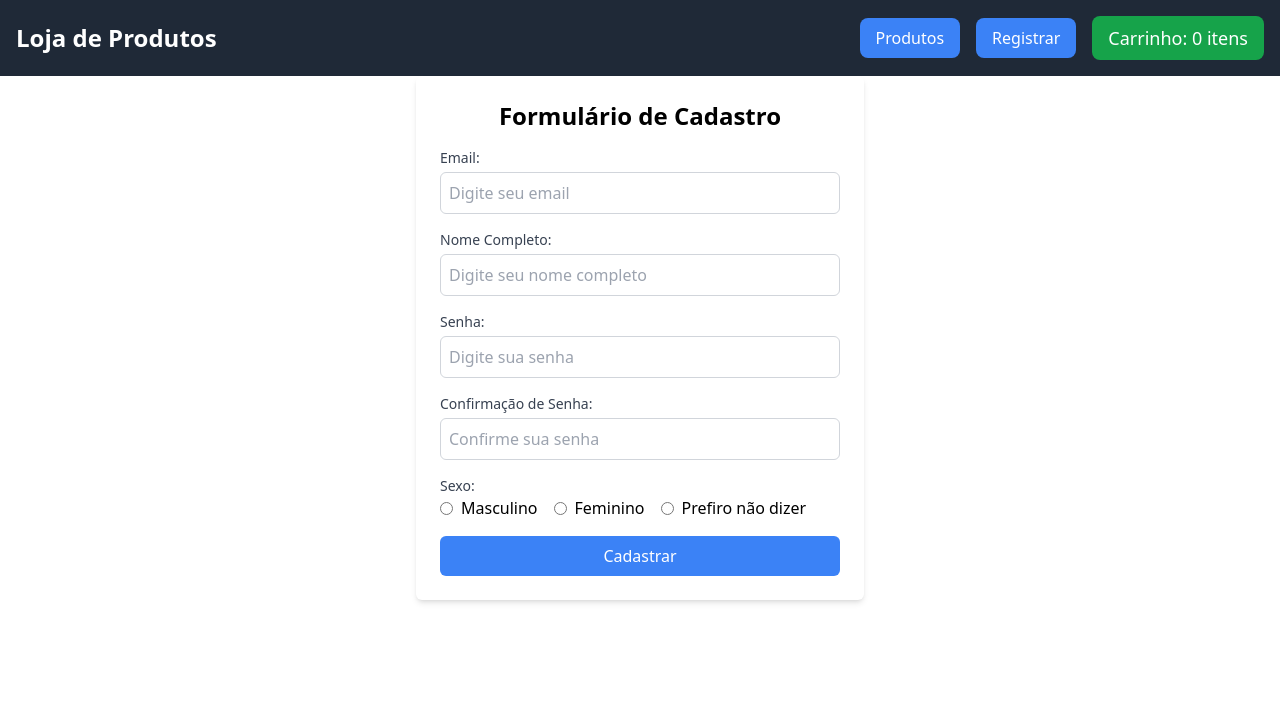
Scenario: Cadastro Formulário › Deve mostrar erro se as senhas não coincidirem
The image size is (1280, 720).
// Preenche os campos com senhas diferentes
Type "teste@dominio.com" into the field named "email".
click(640, 193); type("teste@dominio.com")  # box [440,172,840,214]
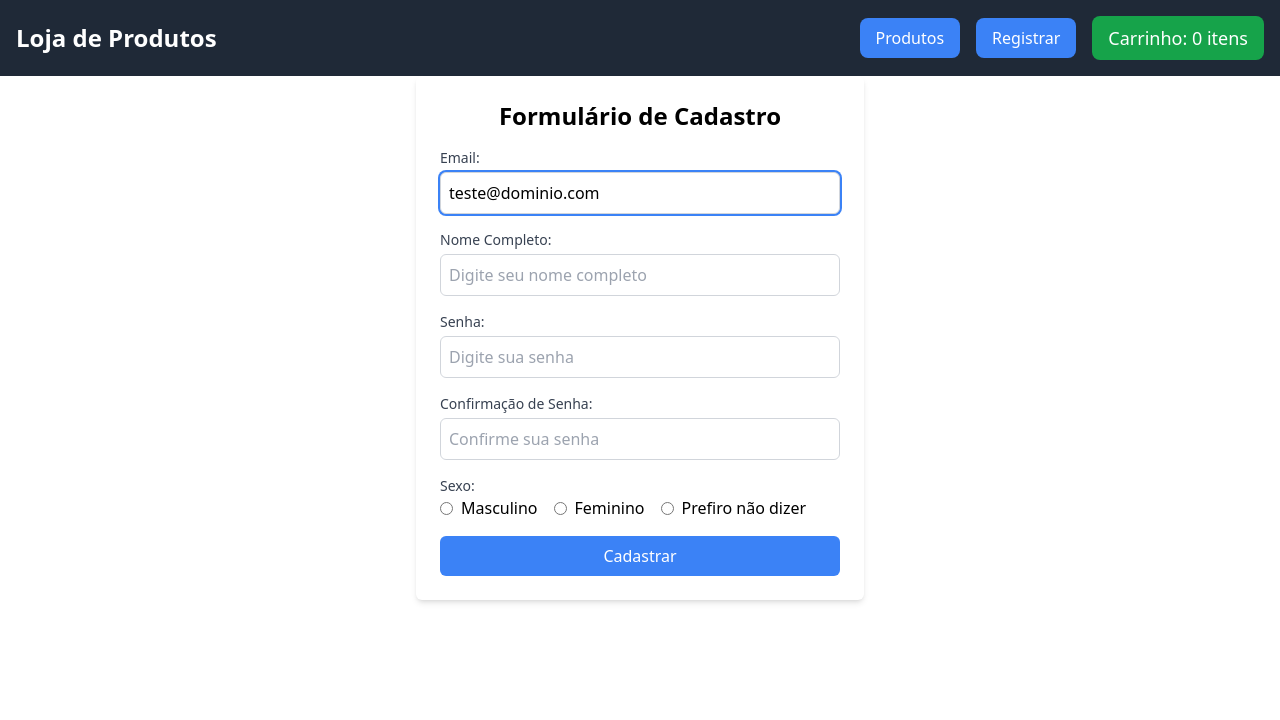
Type "João da Silva" into the field named "nome".
click(640, 275); type("João da Silva")  # box [440,254,840,296]
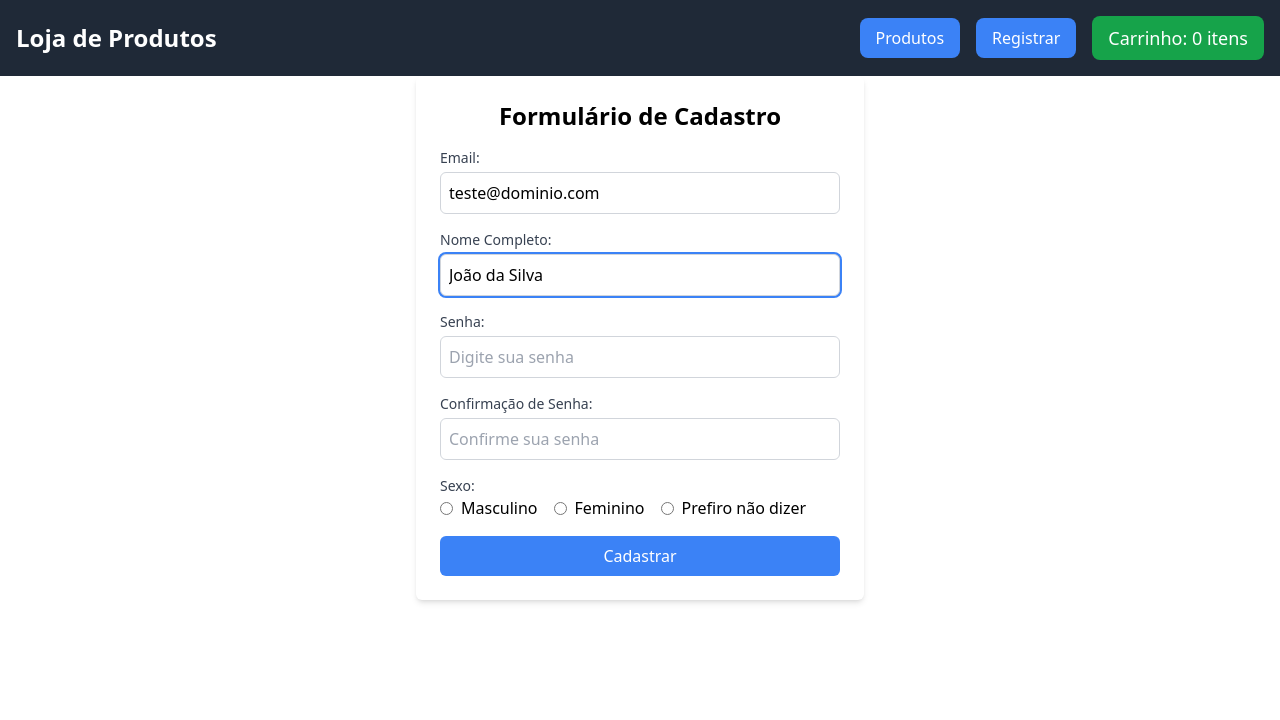
Type "123456" into the password field named "senha".
click(640, 357); type("123456")  # box [440,336,840,378]
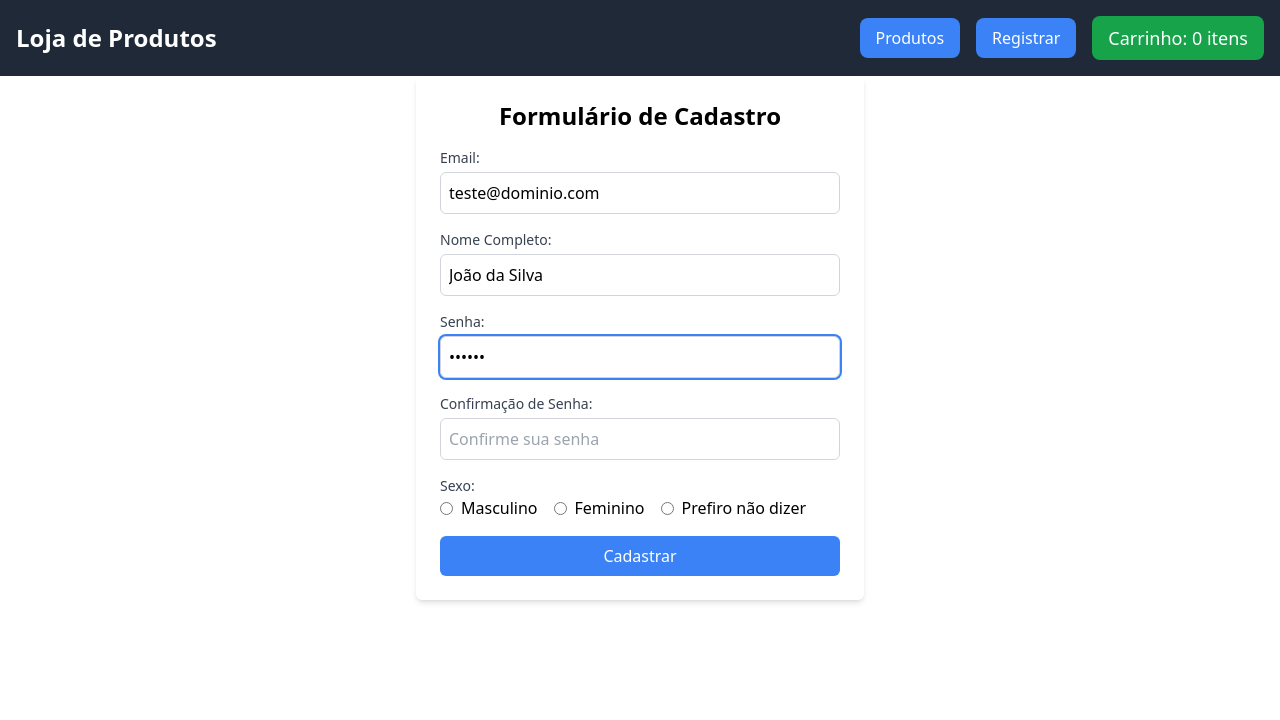
Type "654321" into the password field named "confirmacaoSenha".
click(640, 439); type("654321")  # box [440,418,840,460]
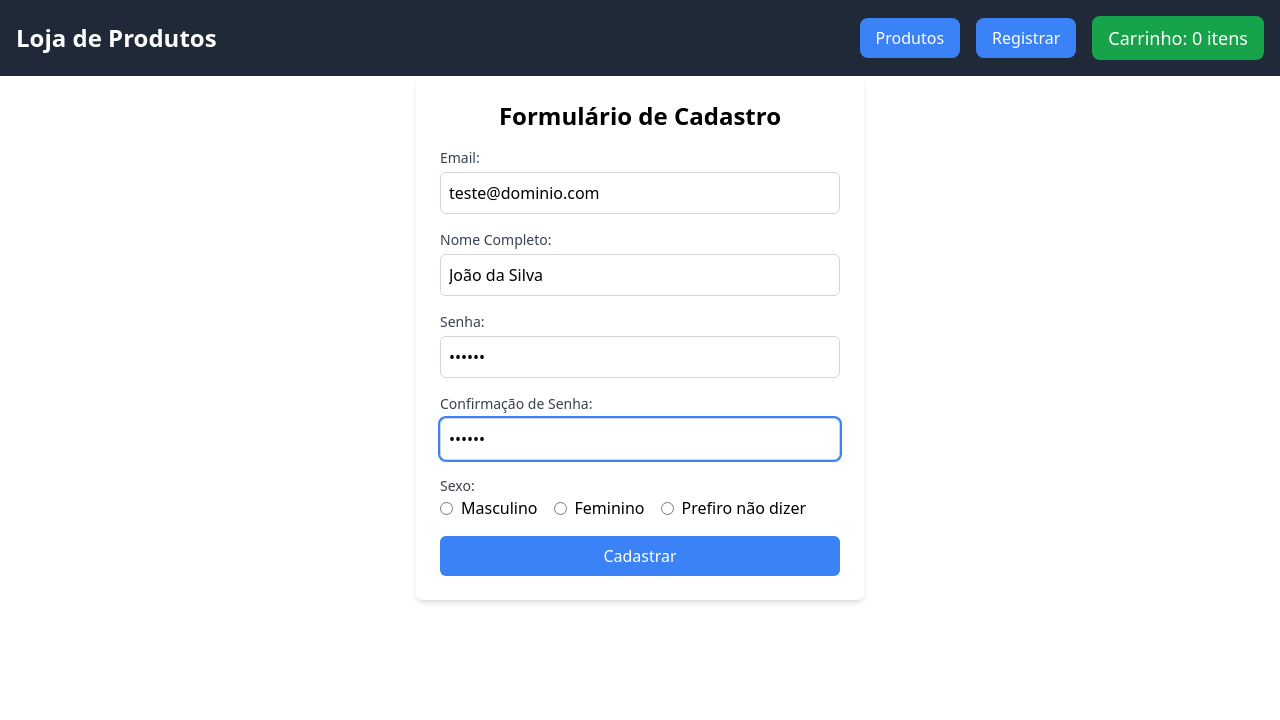
Check the radio button named "sexo".
click(447, 509)  # box [440,502,453,515]
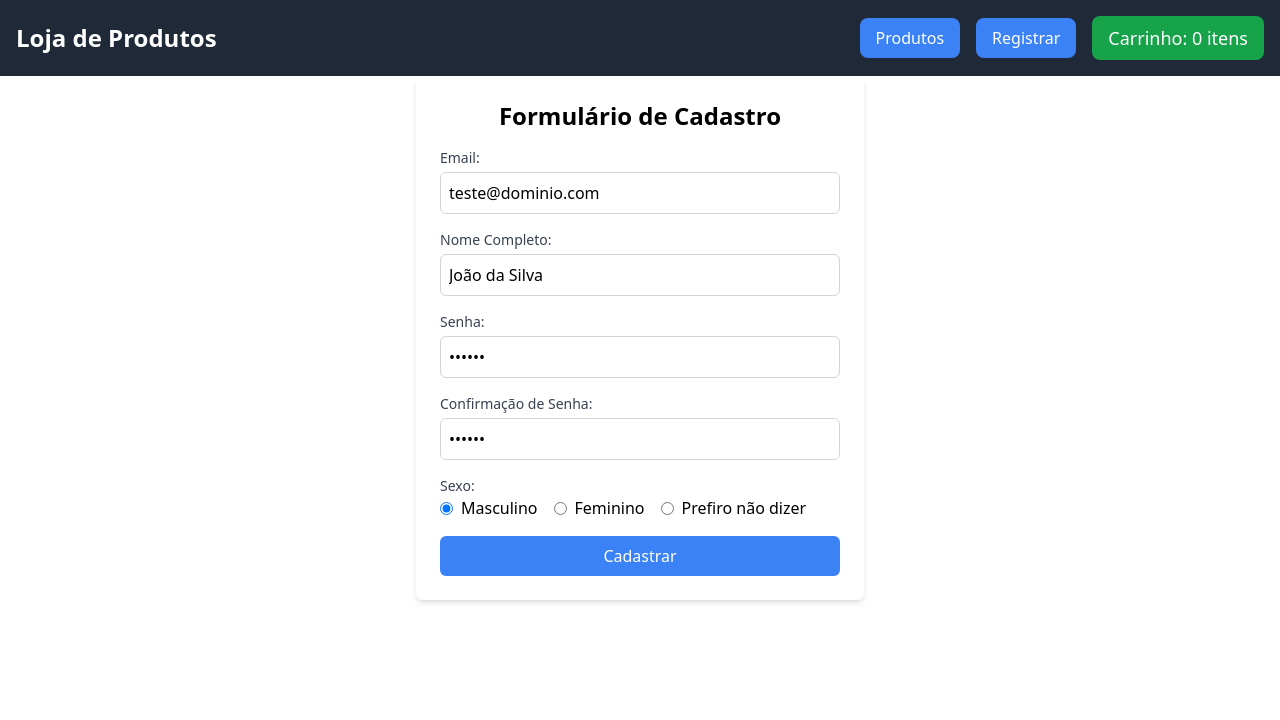
// Envia o formulário
Click the submit button.
click(640, 556)  # box [440,536,840,576]
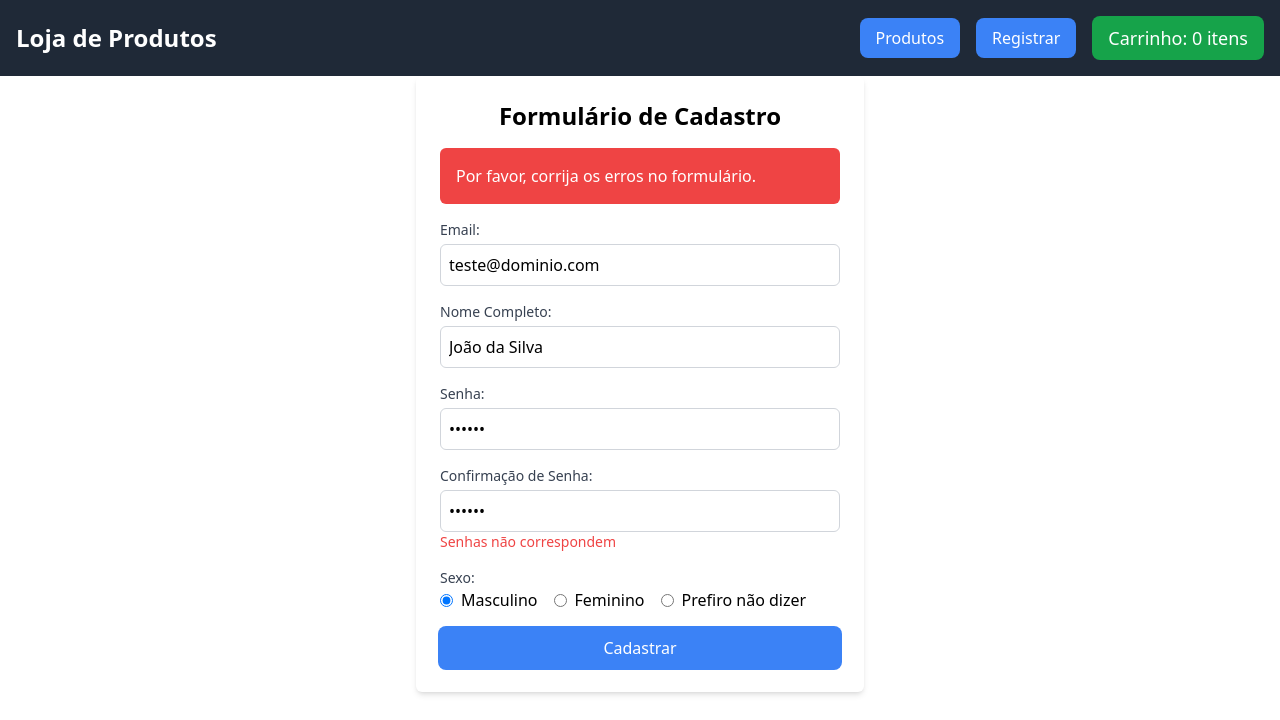
Now the text "Senhas não correspondem" is shown, box [440,532,616,551]
